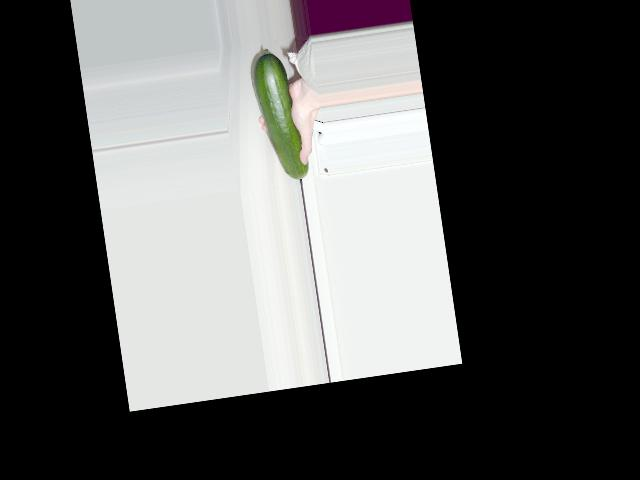cucumber: (247, 45, 310, 184)
